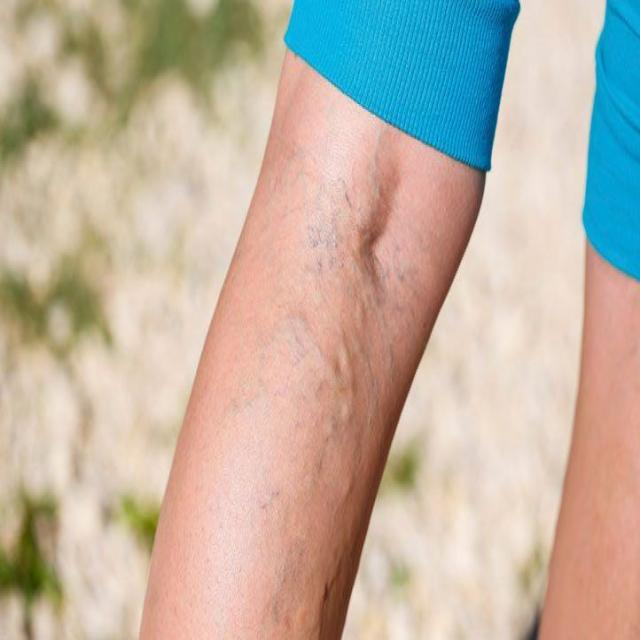Varicose: (270, 100, 420, 594)
